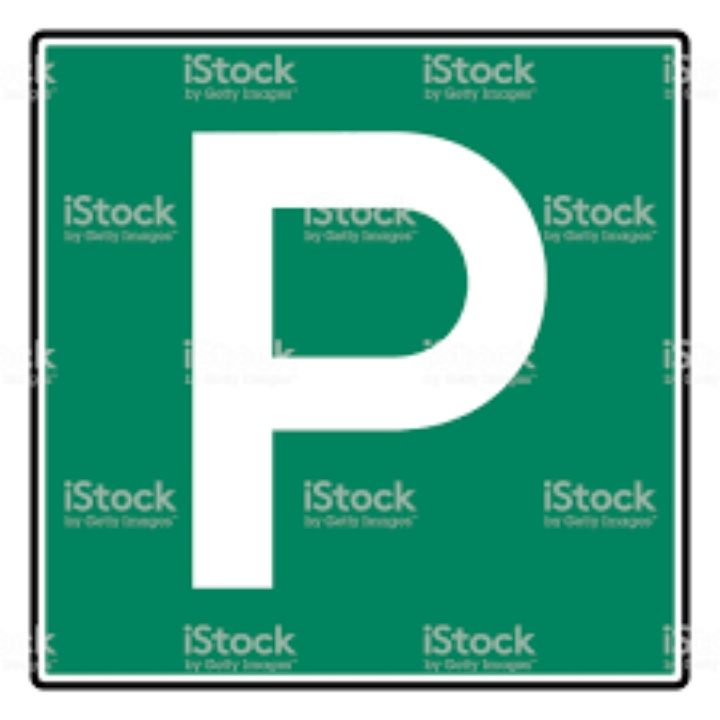park: (165, 107, 558, 612)
